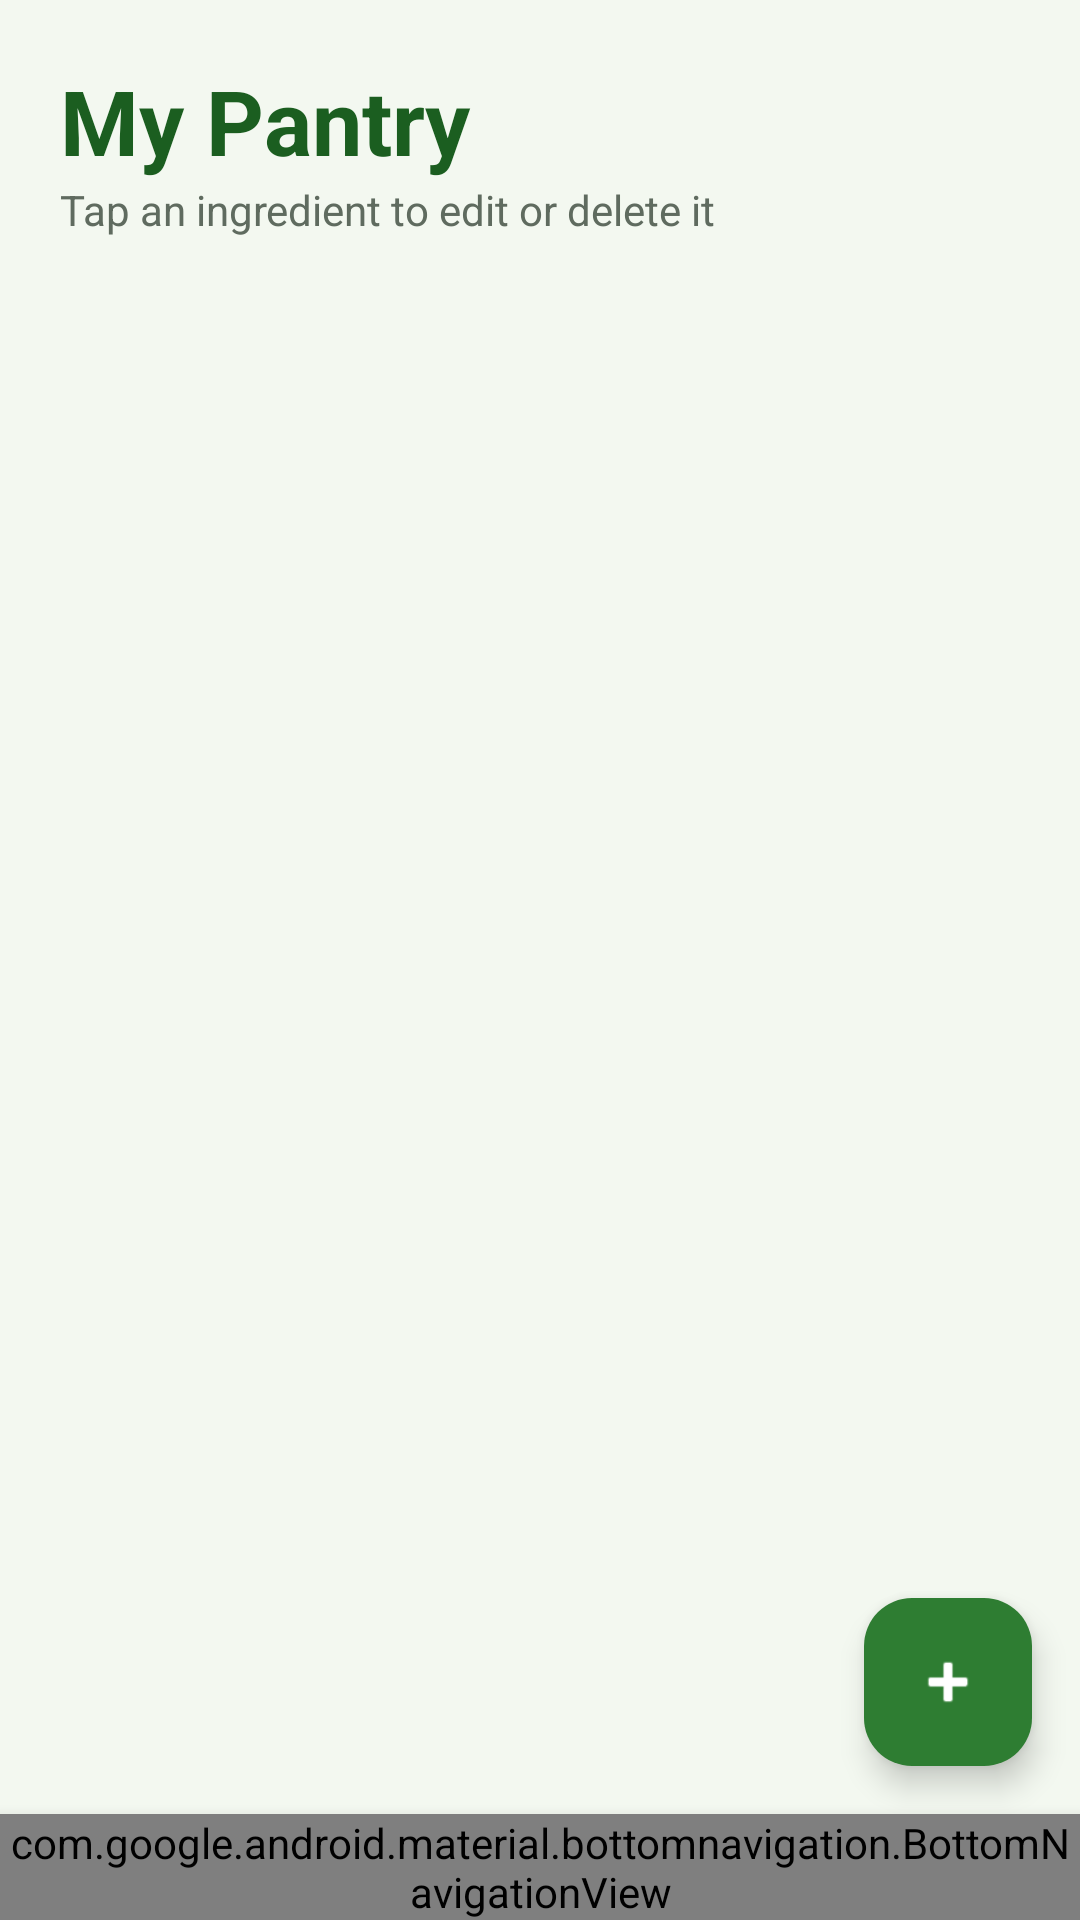

Icons on this 1080px x 1920px Android screen, each with its box as region(x1, y1, x2, y2):
Add ingredient: region(864, 1598, 1032, 1766)
